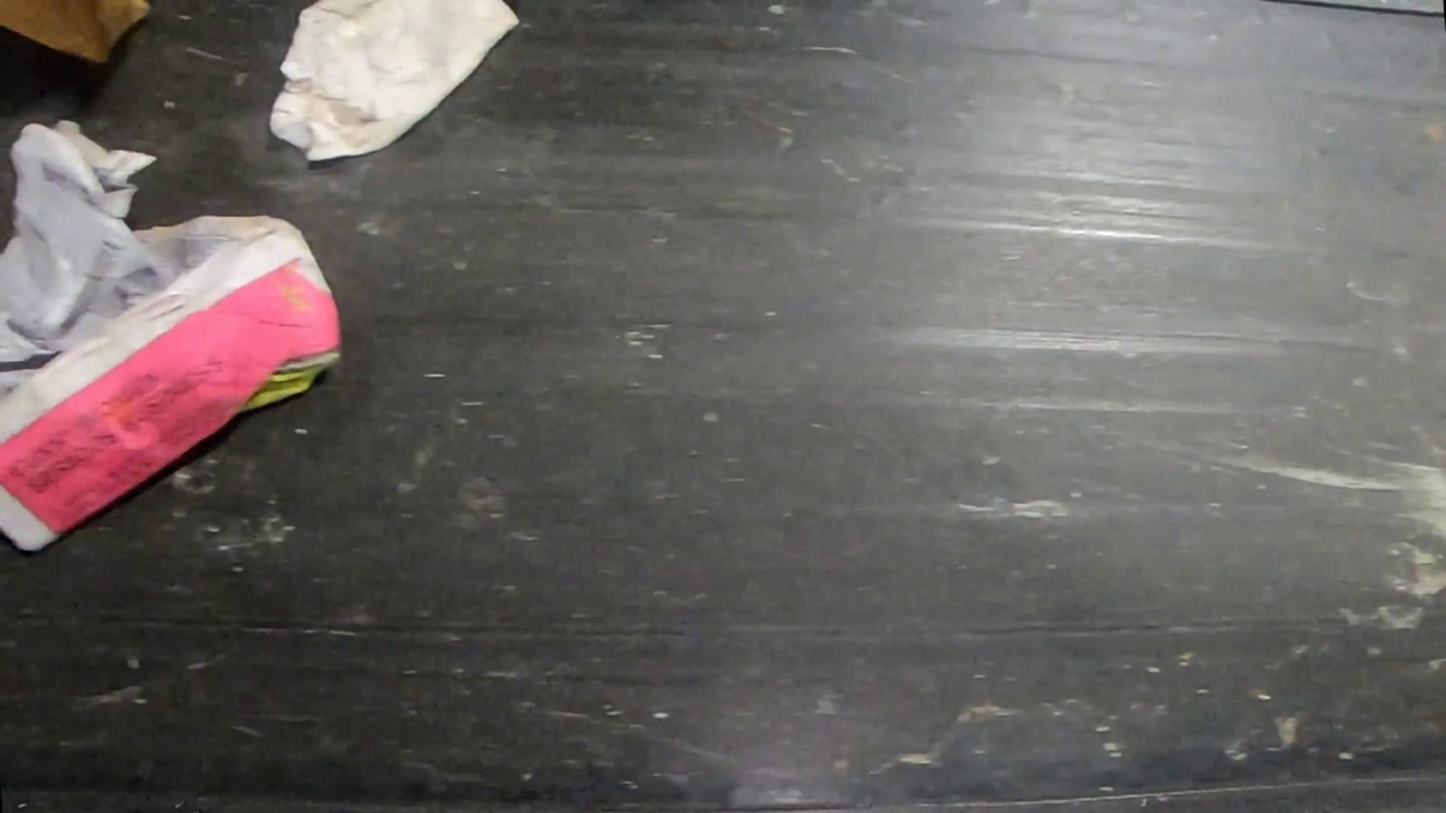cardboard: (0, 0, 149, 65)
